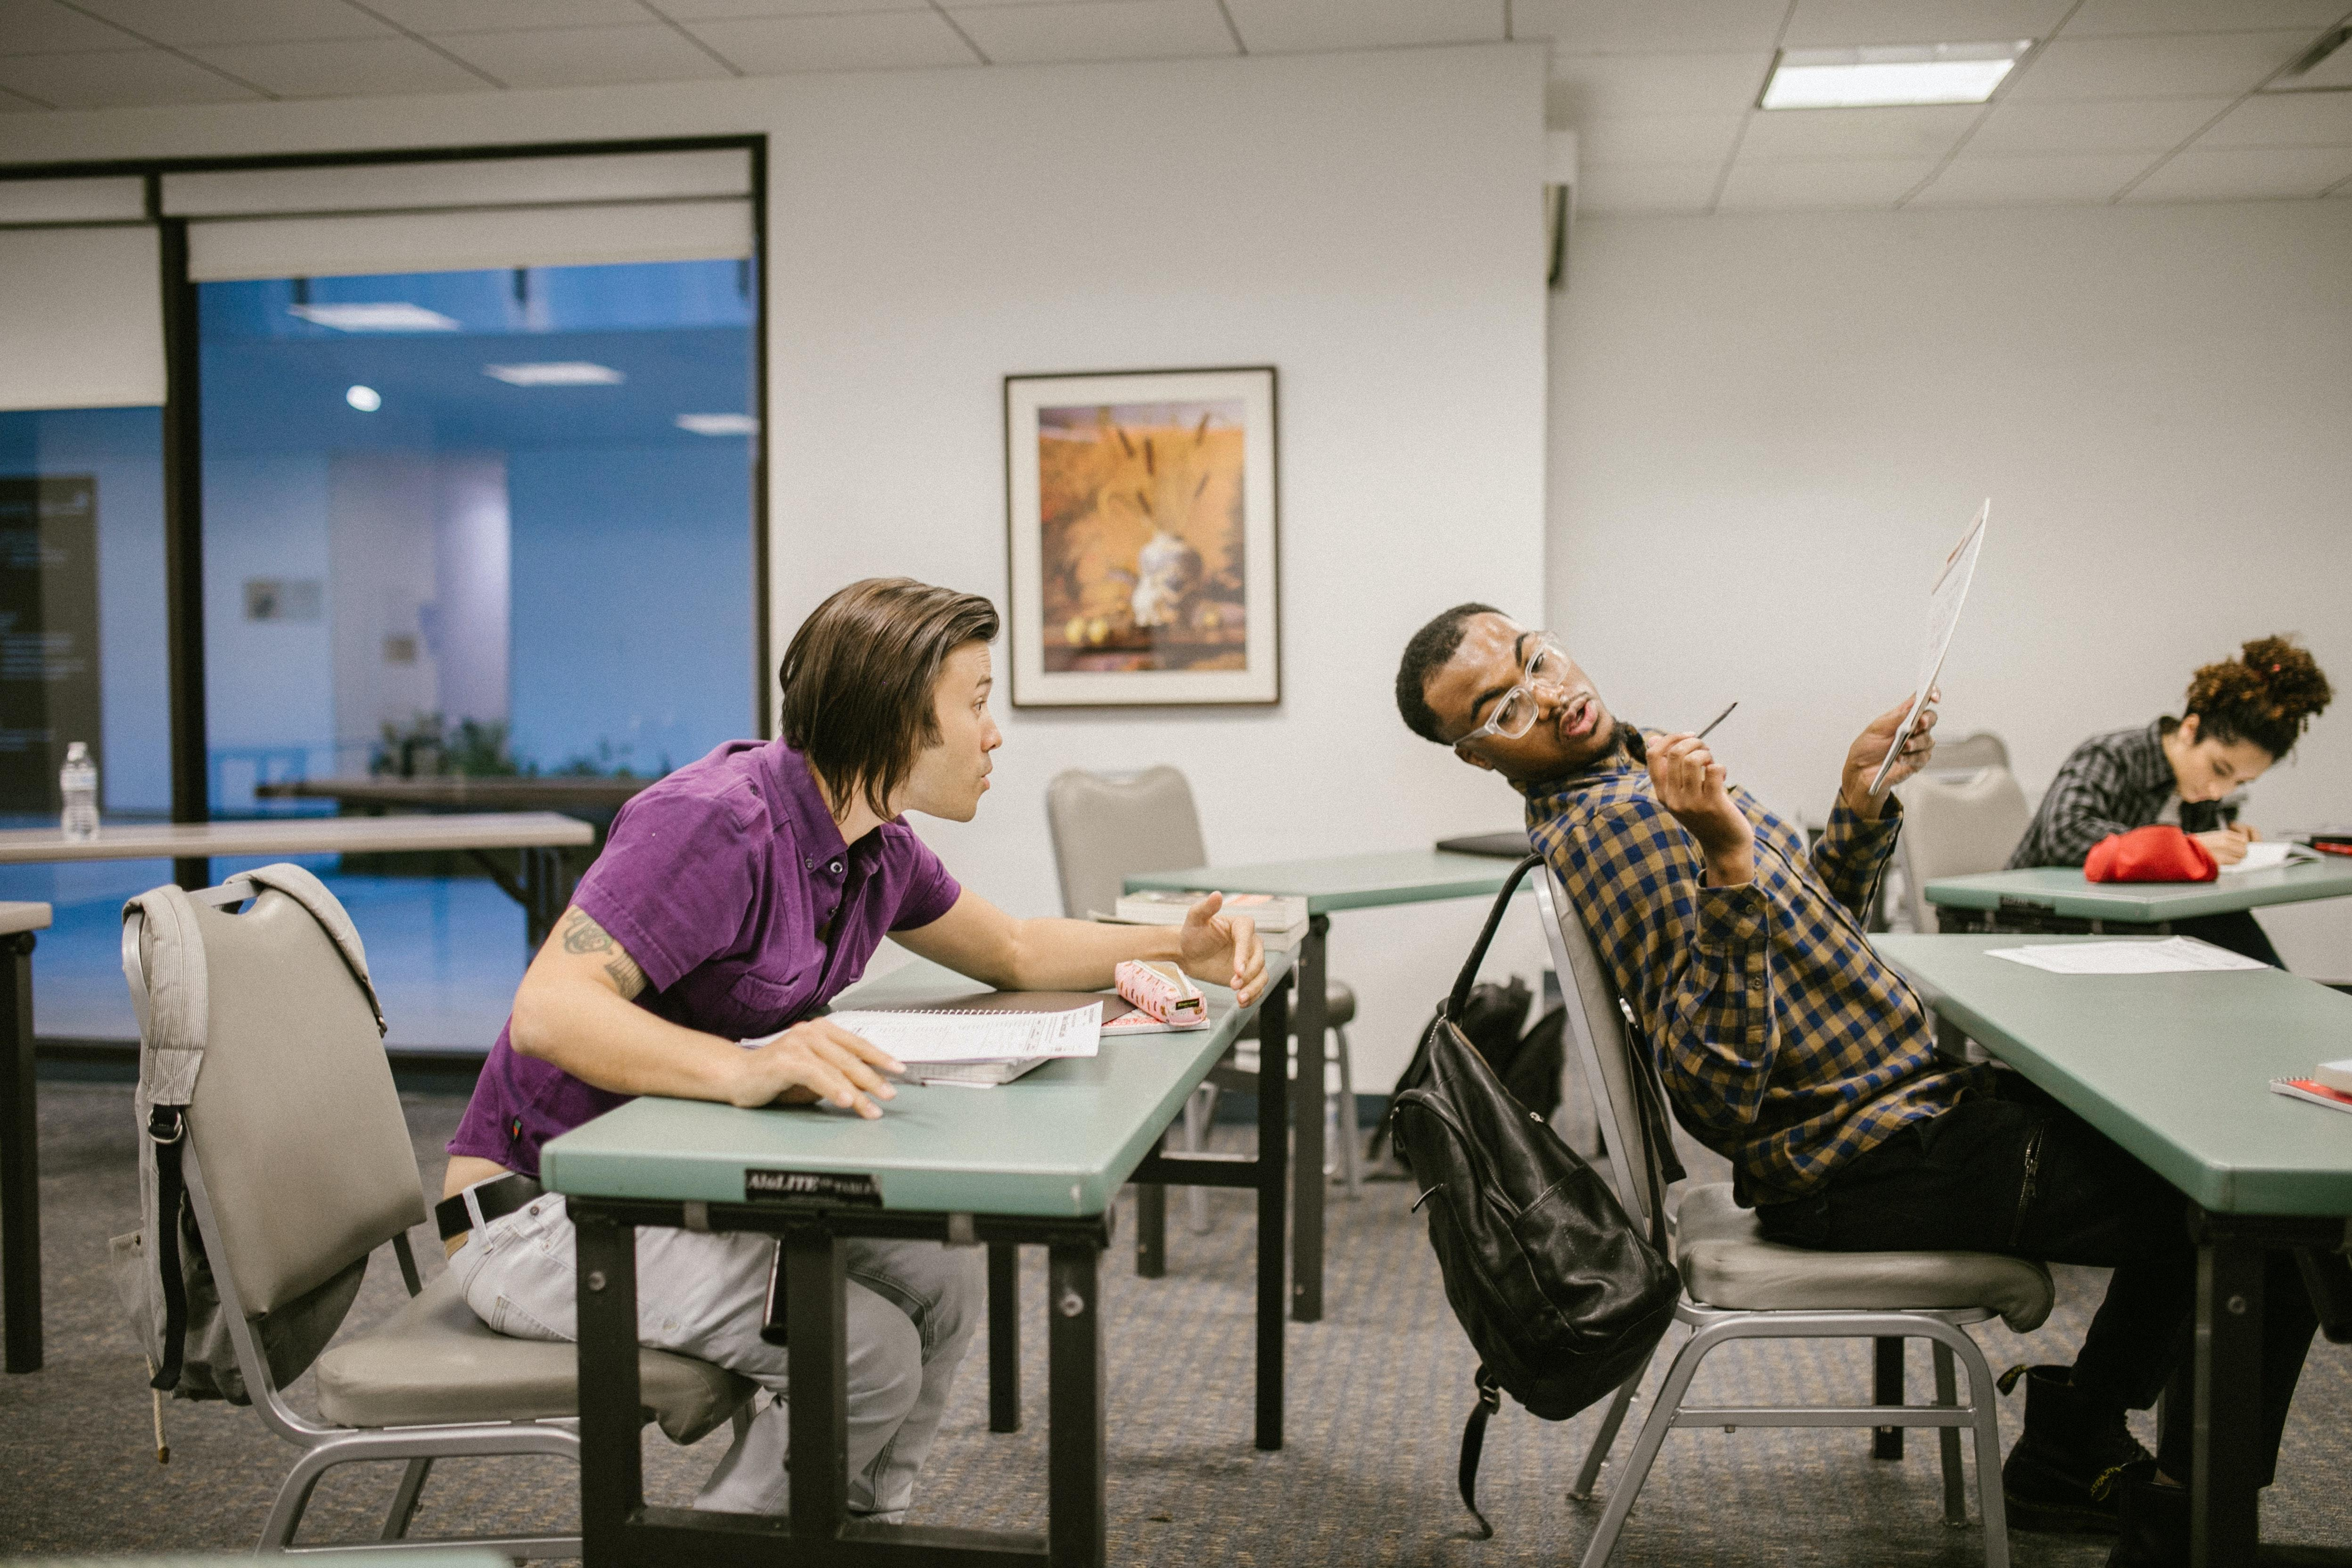cheating: (1327, 501, 2107, 1264), (514, 534, 1157, 1117)
